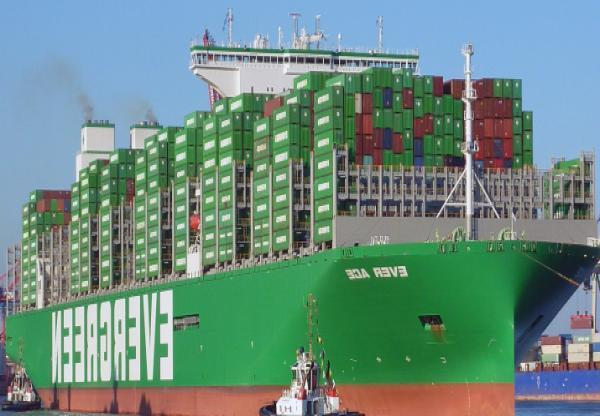Container Ship: (2, 8, 599, 415)
